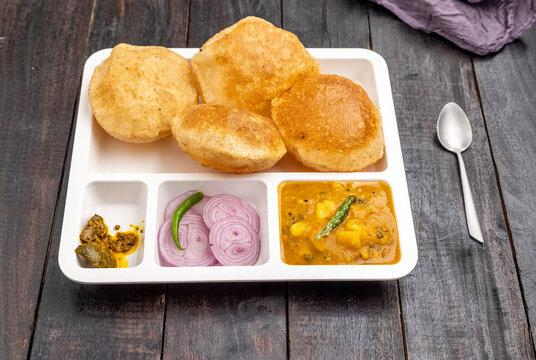puri: (90, 45, 388, 169)
